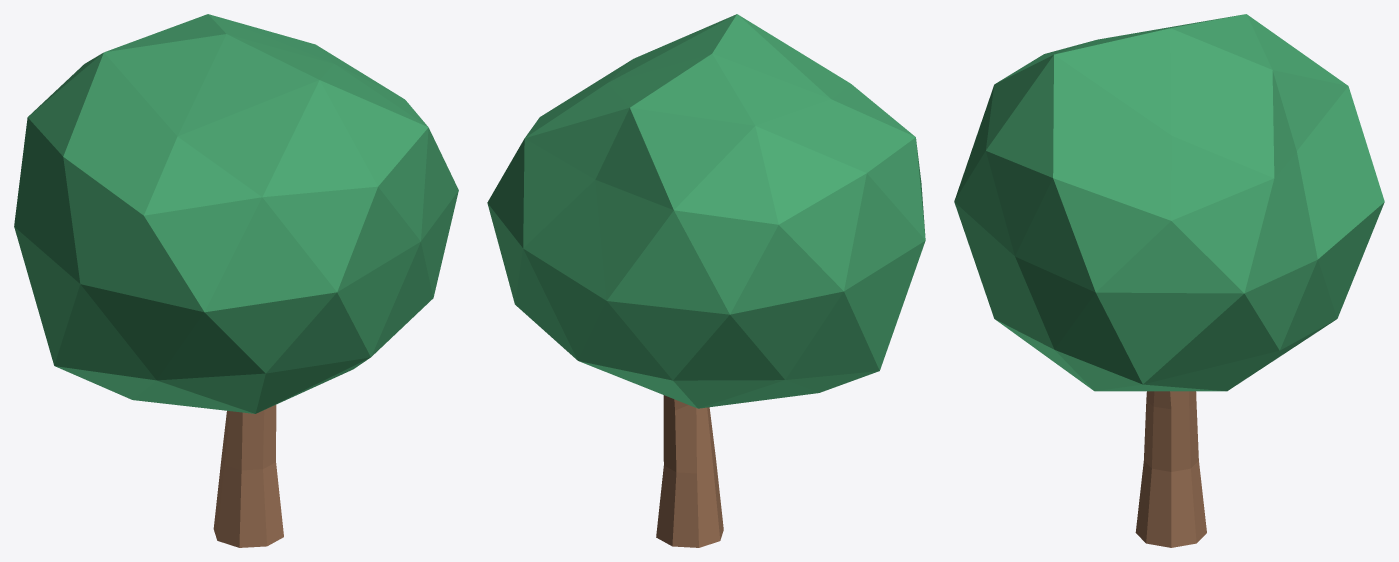
Rendered from Tree2, Mid2.fbx.
3 renders of one model, left to right at view 1: azimuth 30°, elevation 25°; view 2: azimuth 150°, elevation 25°; view 3: azimuth 270°, elevation 25°, orthographic. The views are drawn at different scales.
Visible parts, largest first — view 1: Tree2; view 2: Tree2; view 3: Tree2.
Part boxes in pixels (x1=…): Tree2: x1=14, y1=14, x2=458, y2=547; Tree2: x1=487, y1=14, x2=925, y2=547; Tree2: x1=954, y1=14, x2=1384, y2=547.
Size of the model in its own units: 345 by 437 by 346.
